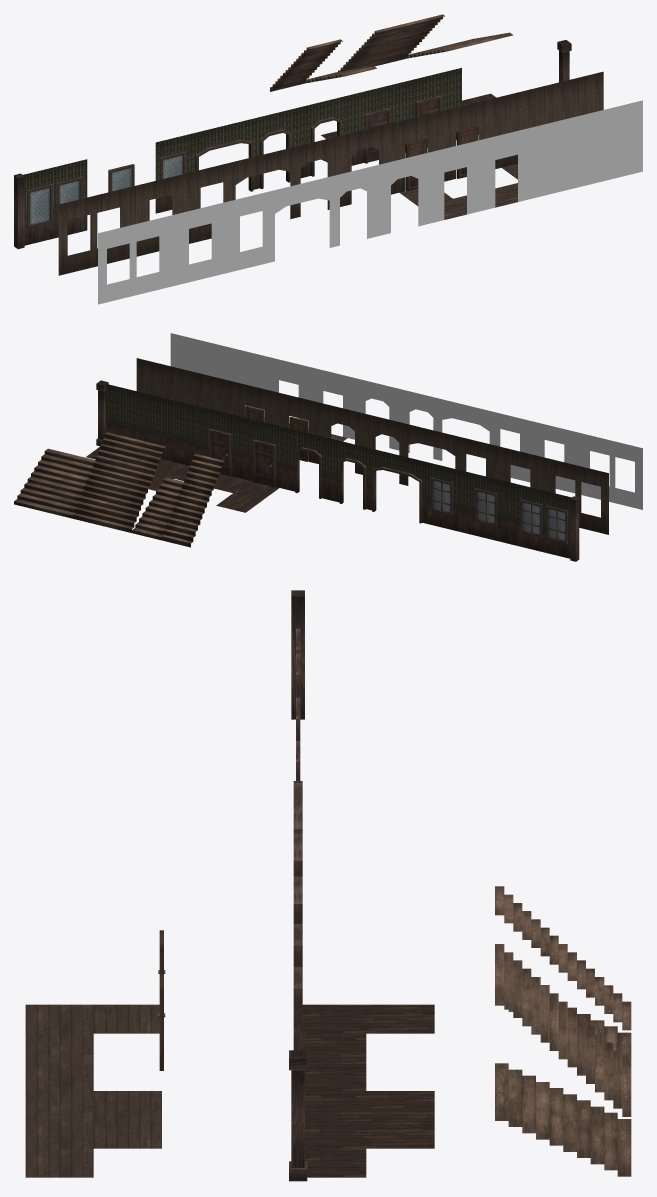
Rendered from Structure_Single-Faced.fbx.
The picture shows the model from 3 angles, top to bottom: view 1: azimuth 30°, elevation 25°; view 2: azimuth 150°, elevation 25°; view 3: azimuth 270°, elevation 25°; orthographic projection. The views are drawn at different scales.
Parts seen in each view (by area): view 1: Wall.T_3x3, Wall.T_3x3_Window, Wall.T_3x3_Door, Wall.T_3x3_Archway.Small, Wall.T_3x3_Window.Double, Wall.W_3x3_Window.Double, Wall.W_3x3_Window, Wall.W_3x3, Wall.W_3x3_Door, Stair.Wide_Full, Wall.T_3x1.5, Wall.W_3x3_Archway.Small (+28 smaller); view 2: Stair.Wide_Full, Stairs.Wide_Half, Wall.WP_3x3_Window, Stair.Narrow_Full, Wall.WP_3x3, Wall.WP_3x3_Door, Wall.WP_3x3_Archway.Small, Wall.T_3x3_Window.Double, Wall.T_3x3_Window, Wall.WP_3x3_Window.Double, Wall.T_3x3, Wall.W_3x3 (+38 smaller); view 3: Stair.Wide_Full, Stairs.Wide_Half, Floor.T_3x3, Floor_3x3, Stair.Narrow_Full, Floor.T_1.5x3, Floor.T_3x1.5, Floor_1.5x3, Floor_3x1.5, Floor.T_1.5x1.5, Pillar, Floor_1.5x1.5 (+3 smaller).
Part boxes in pixels (x1,y1,x2,y2): Wall.T_3x3: [575, 100, 642, 187]; Wall.T_3x3_Window: [166, 200, 234, 287]; Wall.T_3x3_Door: [472, 125, 540, 212]; Wall.T_3x3_Archway.Small: [370, 150, 438, 237]; Wall.T_3x3_Window.Double: [98, 217, 165, 304]; Wall.W_3x3_Window.Double: [58, 188, 126, 275]; Wall.W_3x3_Window: [126, 171, 194, 258]; Wall.W_3x3: [535, 71, 603, 126]; Wall.W_3x3_Door: [433, 96, 501, 181]; Stair.Wide_Full: [338, 14, 444, 71]; Wall.T_3x1.5: [540, 117, 574, 196]; Wall.W_3x3_Archway.Small: [331, 121, 399, 206]; Stair.Wide_Full: [73, 432, 165, 532]; Stairs.Wide_Half: [14, 448, 95, 518]; Wall.WP_3x3_Window: [456, 469, 515, 545]; Stair.Narrow_Full: [161, 453, 224, 547]; Wall.WP_3x3: [105, 384, 161, 458]; Wall.WP_3x3_Door: [191, 404, 250, 480]; Wall.WP_3x3_Archway.Small: [279, 426, 338, 502]; Wall.T_3x3_Window.Double: [584, 434, 642, 509]; Wall.T_3x3_Window: [525, 419, 583, 495]; Wall.WP_3x3_Window.Double: [515, 484, 571, 558]; Wall.T_3x3: [170, 333, 229, 380]; Wall.W_3x3: [136, 358, 195, 405]; Stair.Wide_Full: [495, 944, 631, 1116]; Stairs.Wide_Half: [495, 1063, 631, 1176]; Floor.T_3x3: [25, 1091, 161, 1148]; Floor_3x3: [305, 1091, 434, 1148]; Stair.Narrow_Full: [495, 886, 631, 1030]; Floor.T_1.5x3: [25, 1004, 159, 1033]; Floor.T_3x1.5: [25, 1033, 93, 1090]; Floor_1.5x3: [302, 1004, 434, 1033]; Floor_3x1.5: [302, 1033, 366, 1090]; Floor.T_1.5x1.5: [25, 1148, 93, 1177]; Pillar: [289, 1050, 307, 1181]; Floor_1.5x1.5: [305, 1148, 366, 1177].
Size of the model in its own units: 2442 by 300 by 1333.
